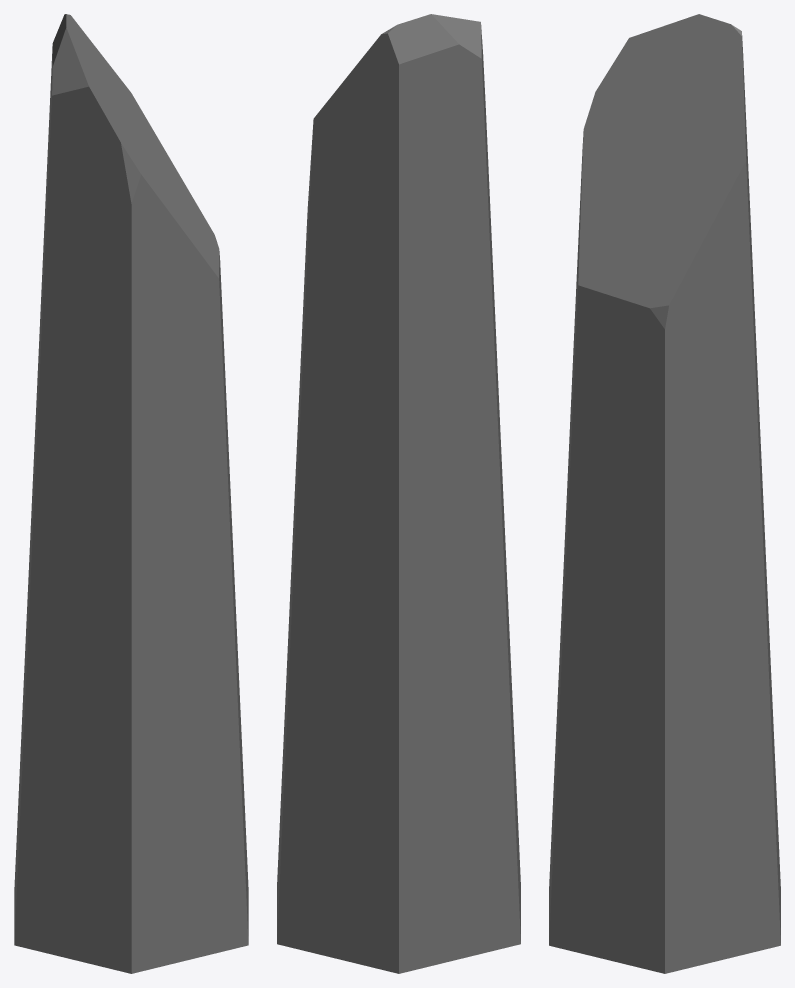
The model's file is rock15.fbx.
The picture shows the model from 3 angles, left to right: view 1: azimuth 30°, elevation 25°; view 2: azimuth 150°, elevation 25°; view 3: azimuth 270°, elevation 25°; orthographic projection. The views are drawn at different scales.
Visible parts, largest first — view 1: rock5; view 2: rock5; view 3: rock5.
Boxes of the visible parts, x1,y1,x2,y2 form: rock5: (14,14,248,973); rock5: (277,14,520,973); rock5: (549,14,780,973).
Size of the model in its own units: 1034 by 3750 by 895.
